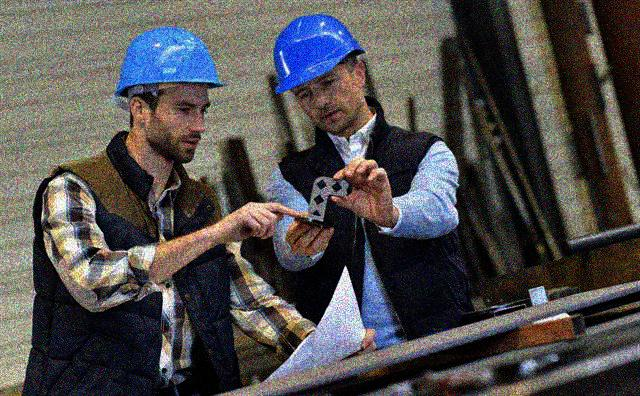helmet: (112, 27, 230, 165), (270, 13, 369, 134)
